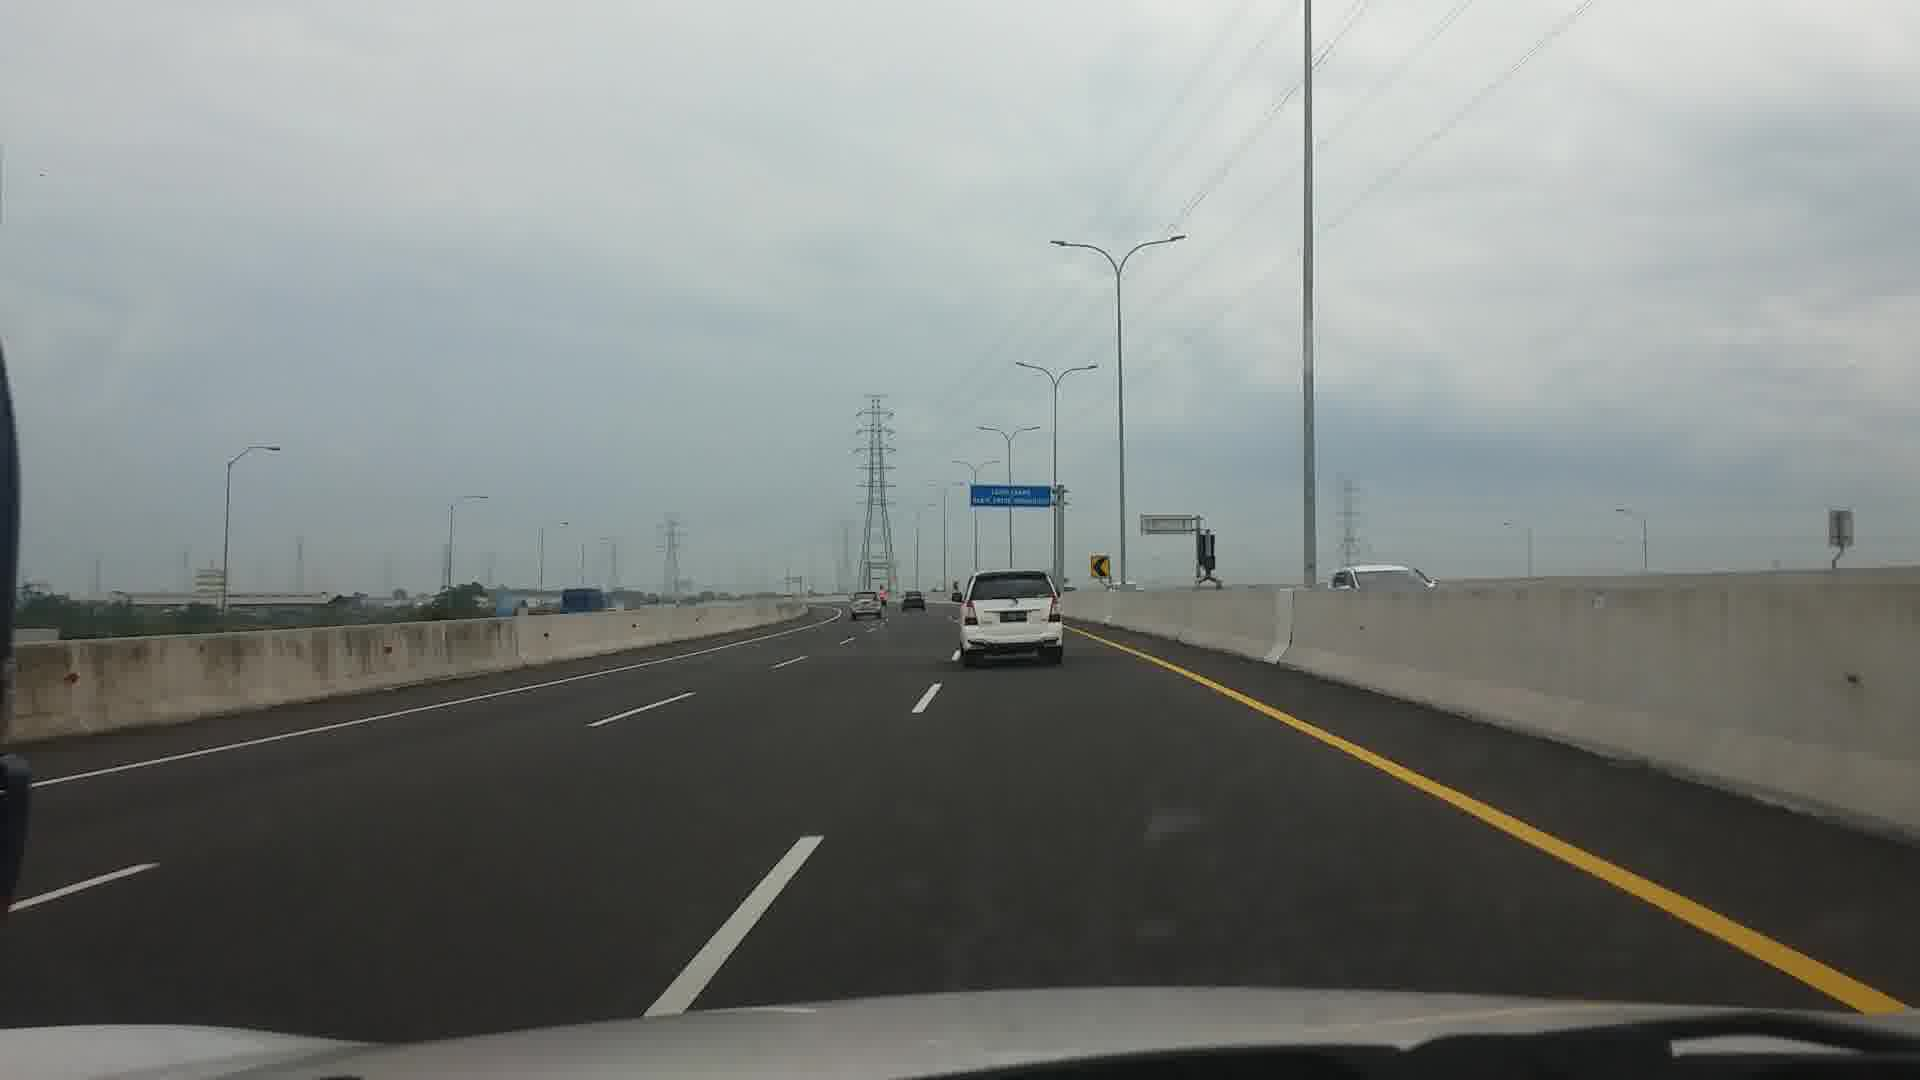plate_positive: (1000, 611, 1027, 622)
